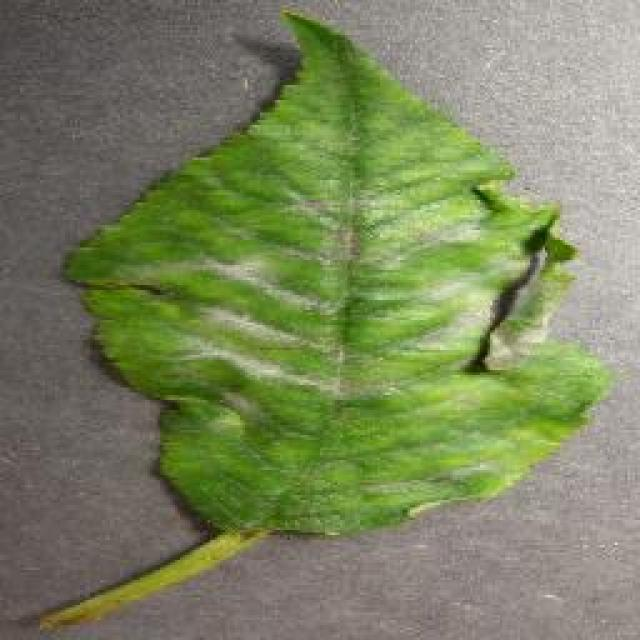Cherry___Powdery_mildew: (15, 2, 625, 640)
